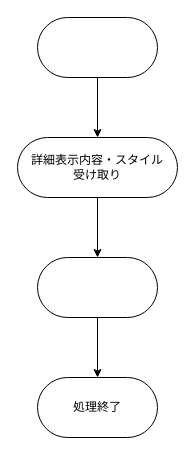
The diagram is 195 pixels wide and 455 high, and some of its shapes have lost their labels. The box of each missing label's shape, as (x1, y1, x2, y2) in pixels:
呼び出し: (36, 16, 158, 78)
詳細表示生成: (36, 256, 158, 318)
